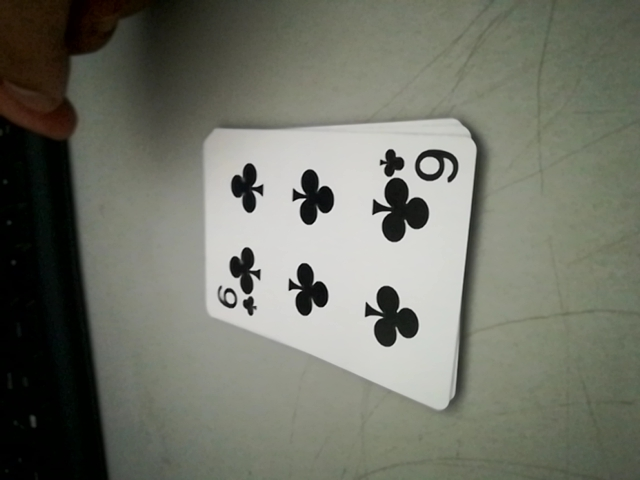mh 6: (381, 143, 463, 185), (209, 280, 258, 323)
